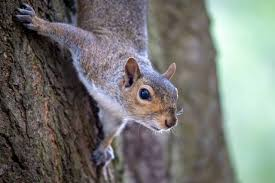squirrel: (17, 2, 183, 167)
